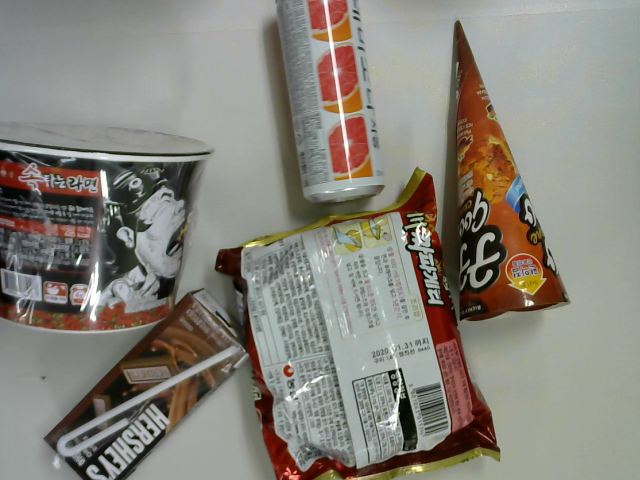Demisoda_Grapefruit_Can_250ml: (262, 1, 391, 214)
GooGoo_Cone_CVS: (434, 14, 578, 332)
HeJangsock: (1, 102, 232, 340)
Hush_Choco_Drink: (34, 283, 257, 480)
Sichuan_Chapaghetti: (209, 165, 506, 480)
